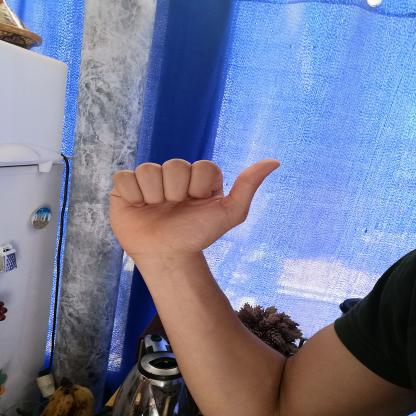DAD: (98, 144, 292, 268)
